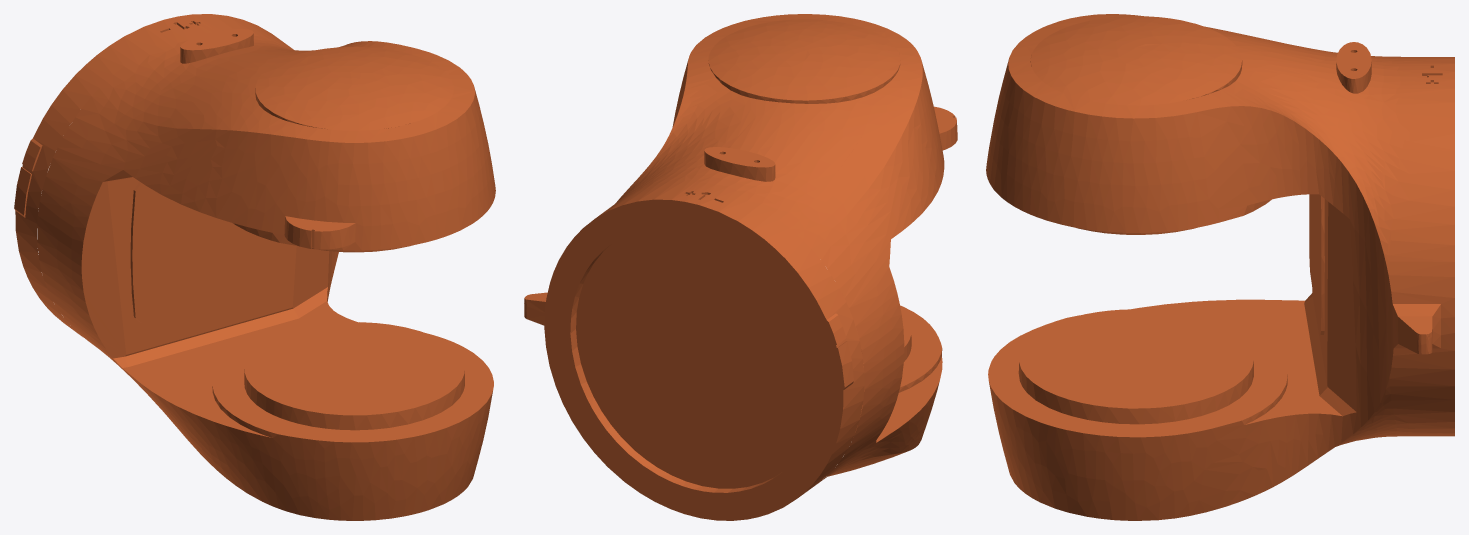
3 renders of one model, left to right at view 1: azimuth 30°, elevation 25°; view 2: azimuth 150°, elevation 25°; view 3: azimuth 270°, elevation 25°, orthographic. The views are drawn at different scales.
Parts seen in each view (by area): view 1: link_1; view 2: link_1; view 3: link_1.
Part boxes in pixels (x1=…): link_1: x1=14, y1=14, x2=495, y2=520; link_1: x1=524, y1=14, x2=957, y2=520; link_1: x1=986, y1=14, x2=1454, y2=520.
Size of the model in its own units: 0.2429 by 0.276 by 0.2694.
